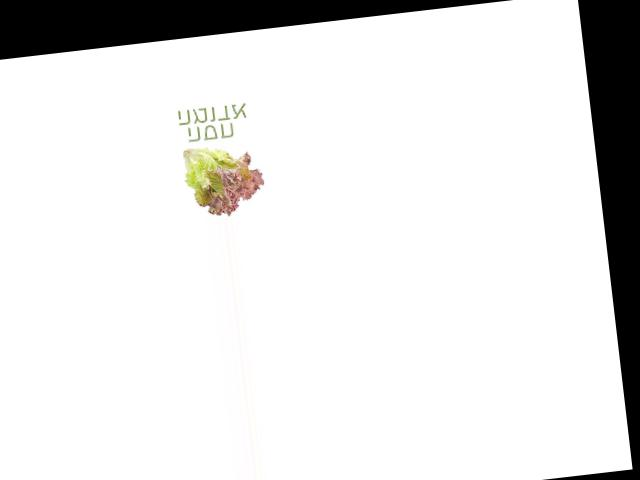lettuce: (173, 137, 269, 221)
